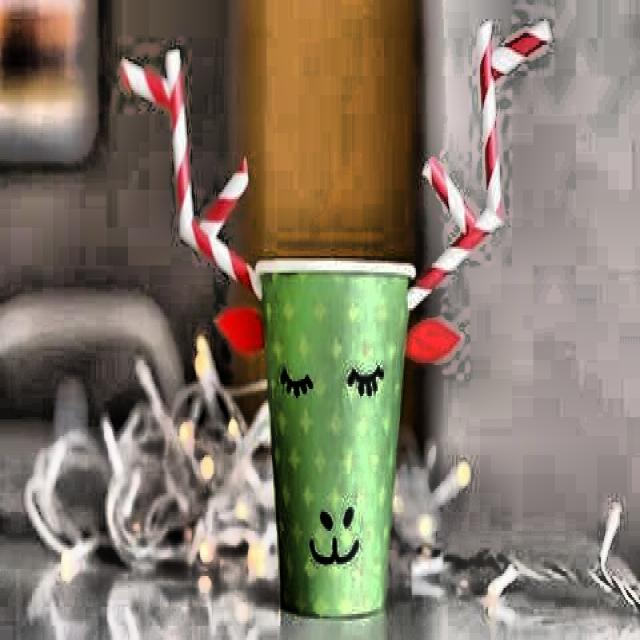Cup: (250, 252, 409, 628)
